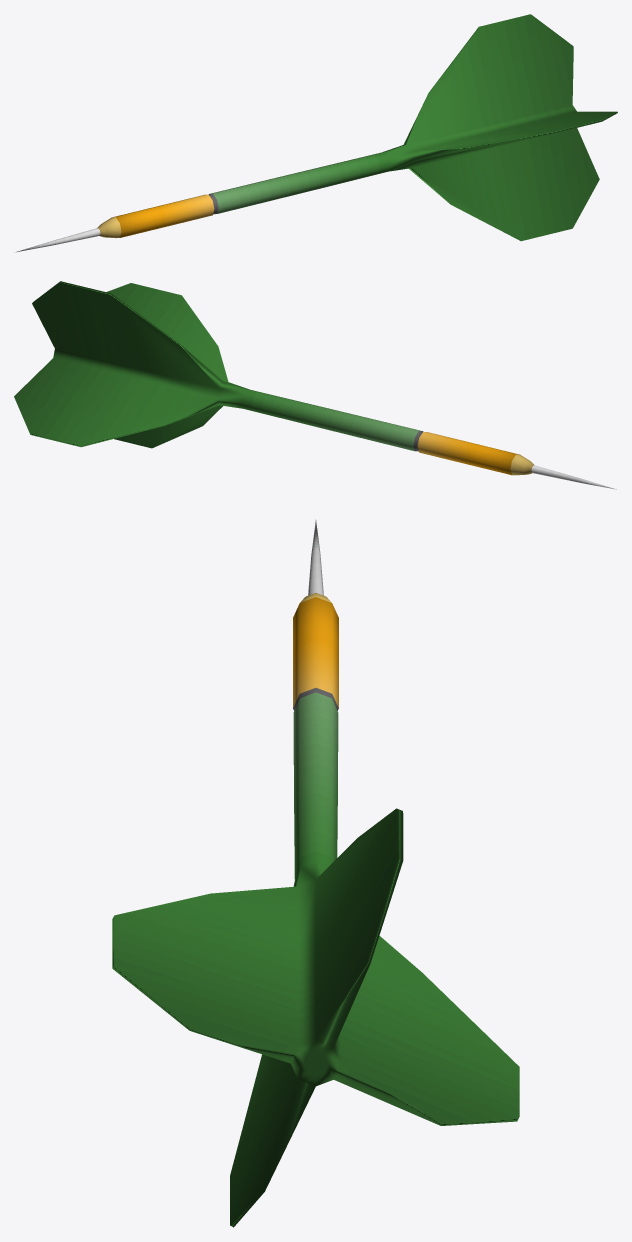
The model's file is SM_Dart_green.fbx.
3 views of the same model, one above another, from view 1: azimuth 30°, elevation 25°; view 2: azimuth 150°, elevation 25°; view 3: azimuth 270°, elevation 25° (orthographic). The views are drawn at different scales.
Parts seen in each view (by area): view 1: Dart_green; view 2: Dart_green; view 3: Dart_green.
Boxes of the visible parts, x1,y1,x2,y2 form: Dart_green: (16,14,617,252); Dart_green: (14,281,616,489); Dart_green: (112,519,519,1227).
Size of the model in its own units: 34.15 by 10.54 by 10.53.
